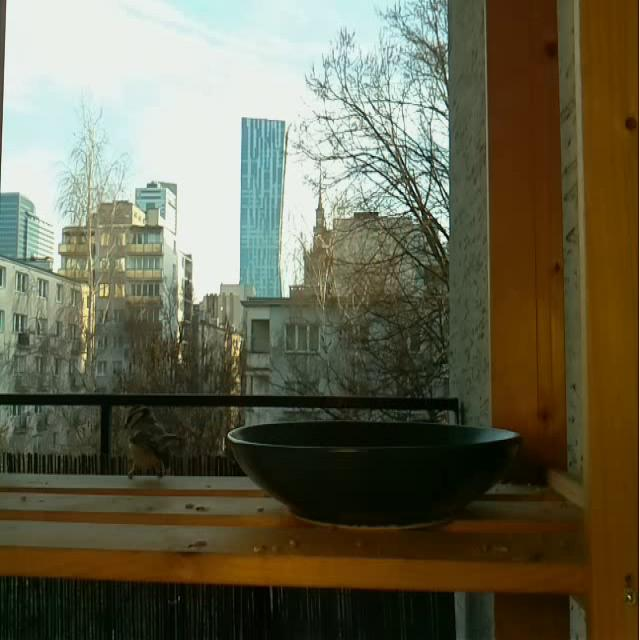Modraszka: (121, 404, 187, 481)
